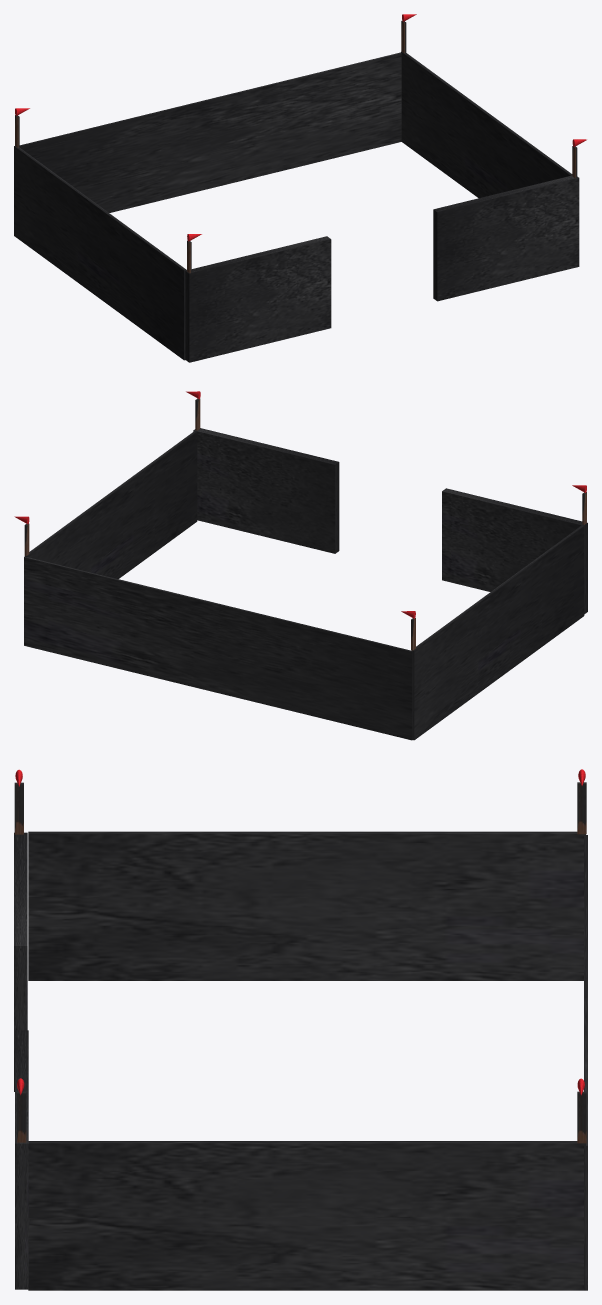
Rendered from Estacionamiento.fbx.
3 views of the same model, one above another, from view 1: azimuth 30°, elevation 25°; view 2: azimuth 150°, elevation 25°; view 3: azimuth 270°, elevation 25° (orthographic). The views are drawn at different scales.
Visible parts, largest first — view 1: Cono.003; view 2: Cono.003; view 3: Cono.003.
Part boxes in pixels (left/top/right/bottom): Cono.003: left=14, top=14, right=586, bottom=362; Cono.003: left=14, top=391, right=587, bottom=740; Cono.003: left=14, top=769, right=587, bottom=1290.
Size of the model in its own units: 5201 by 1585 by 3926.
